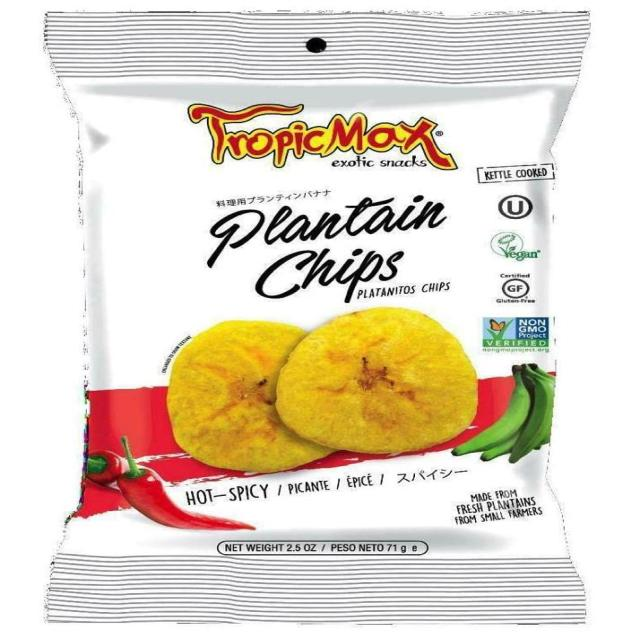platano: (146, 306, 478, 472)
